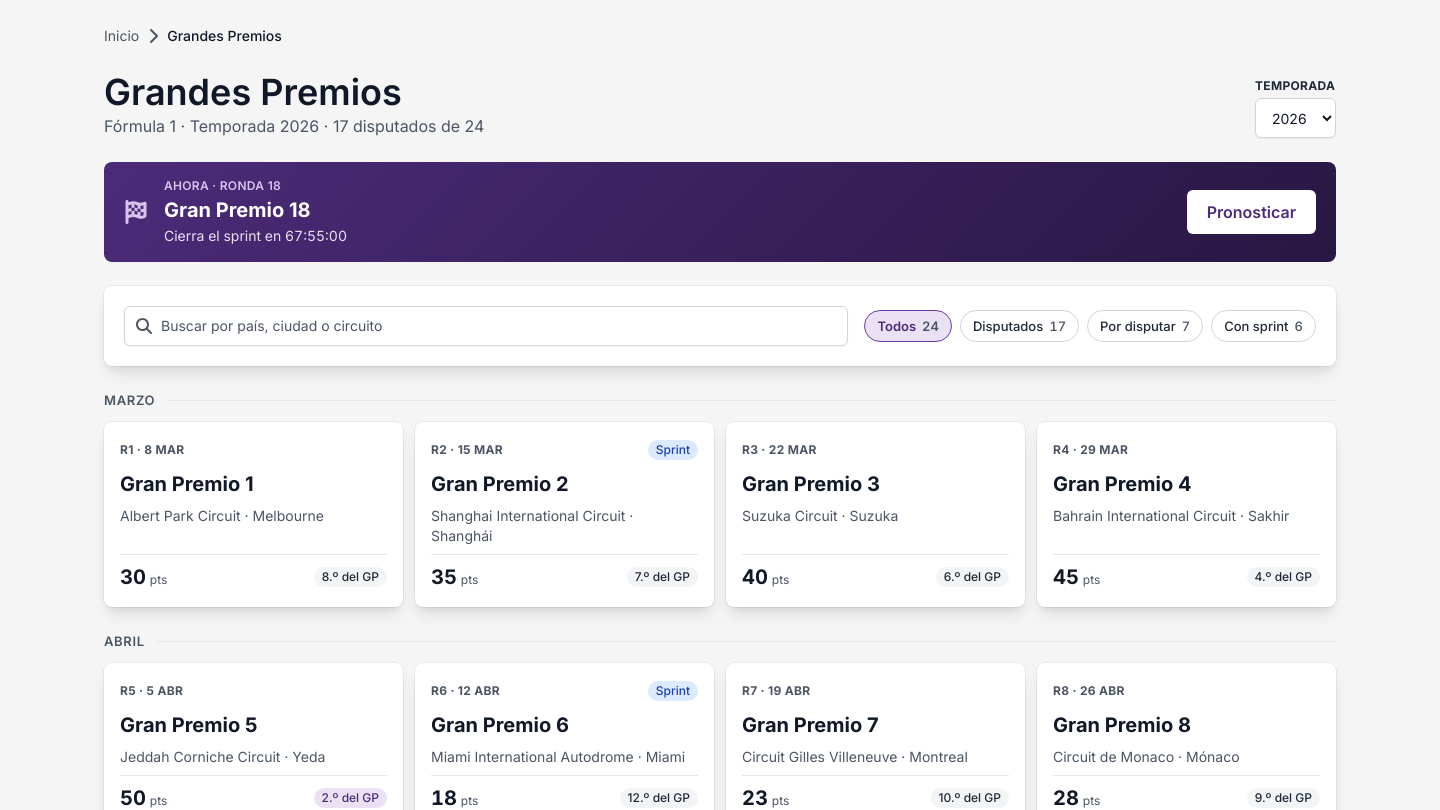
Test case: GP calendar › changing the season updates the URL and reloads the list
The width and height of the screenshot is (1440, 810).
Expected: the text "Fórmula 1 · Temporada 2026 · 17 disputados de 24" is shown, 104,114 -> 484,138
Select "2025" in the dropdown labelled "Temporada": coordinates (1296, 118) 1255,98 -> 1336,138
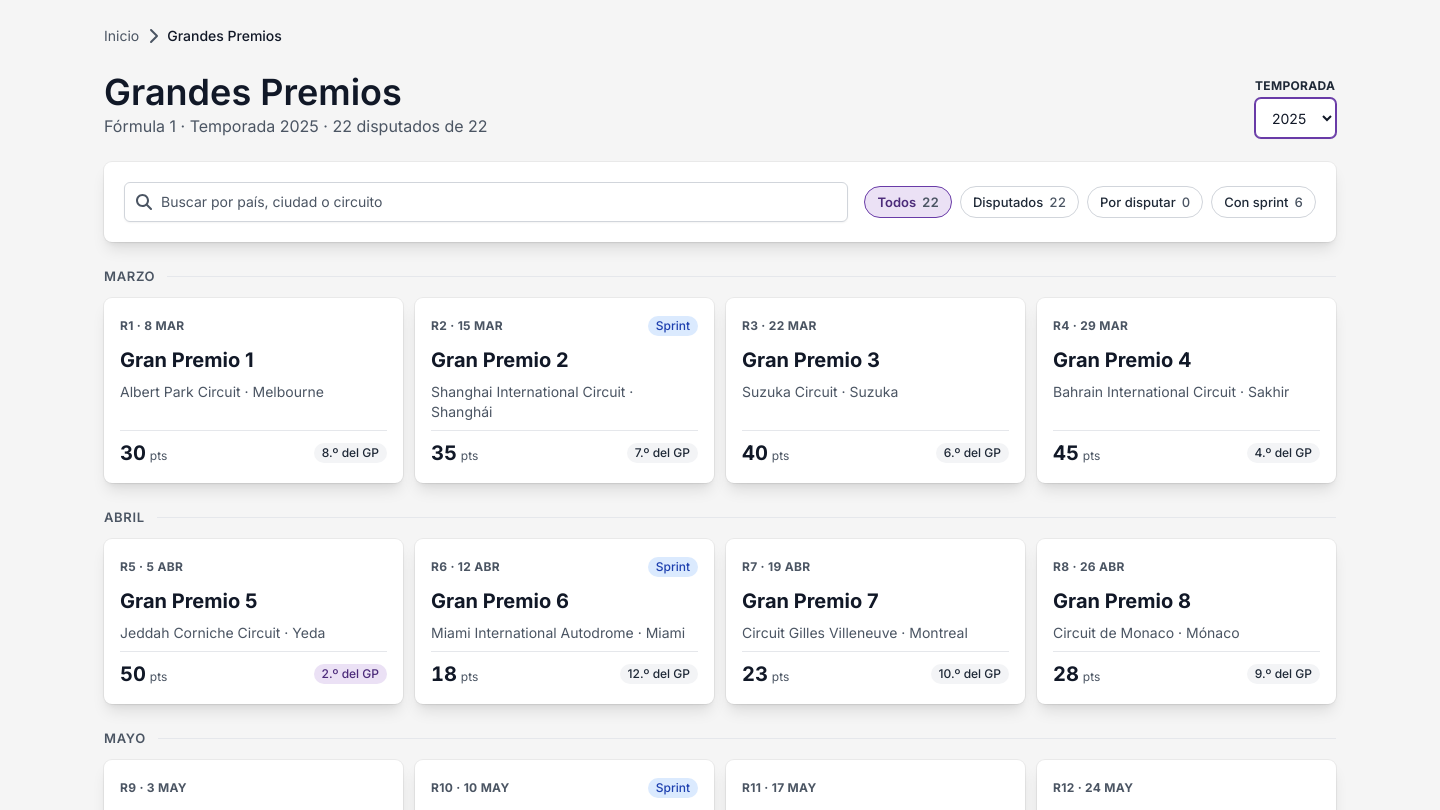
Expected: the text "Fórmula 1 · Temporada 2025 · 22 disputados de 22" is shown, 104,114 -> 488,138
Expected: the link "Ahora · Ronda" is gone
